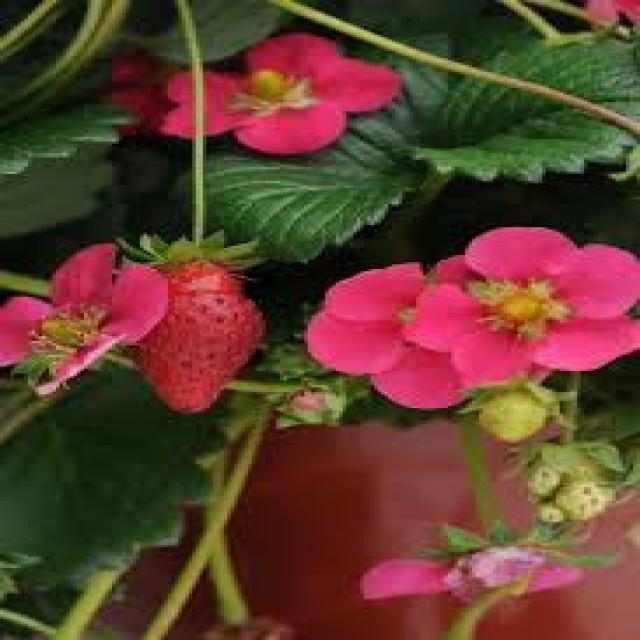Ripe Strawberry: (144, 260, 265, 414)
